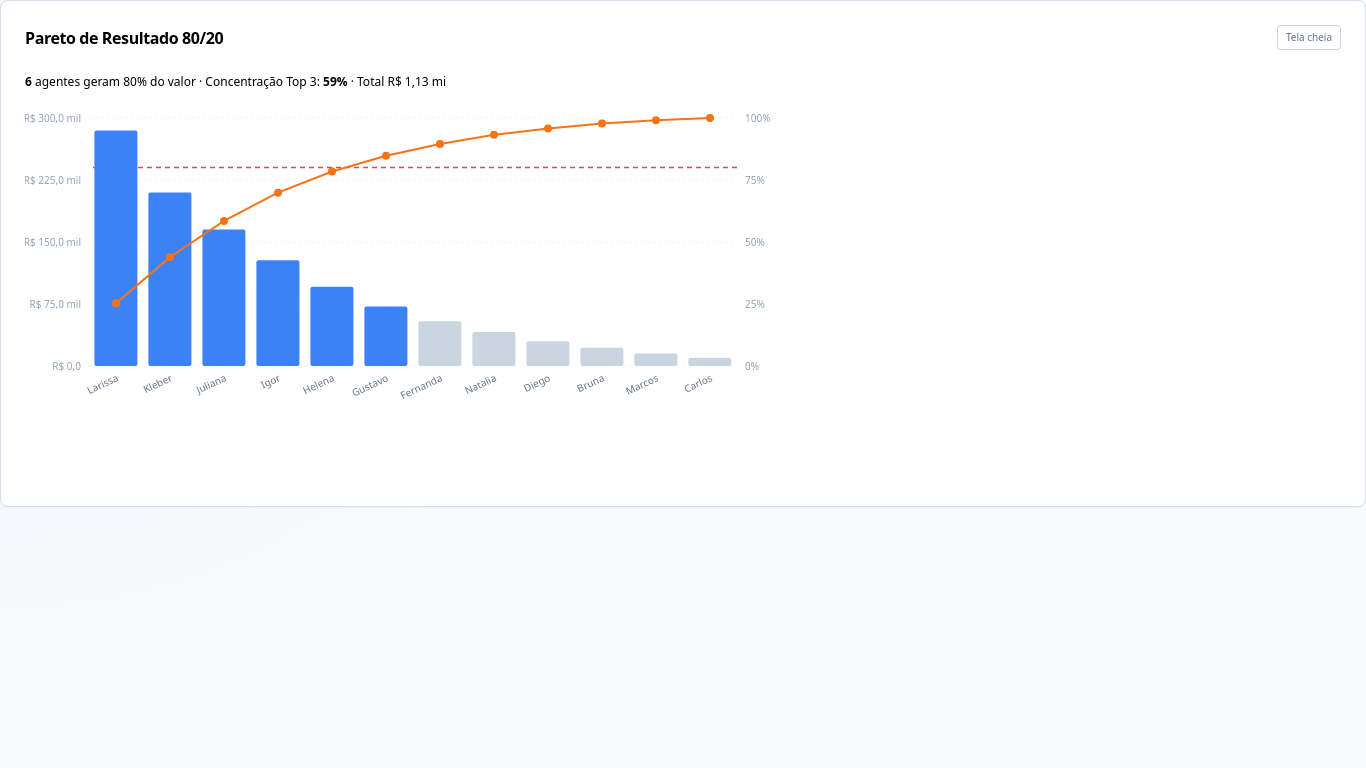
Test case: ParetoChart › opens fullscreen overlay on maximize click
This screenshot has width=1366, height=768.
Step 1. Click the button with test id "pareto-maximize" → (1309, 38), box [1277,25,1341,50]
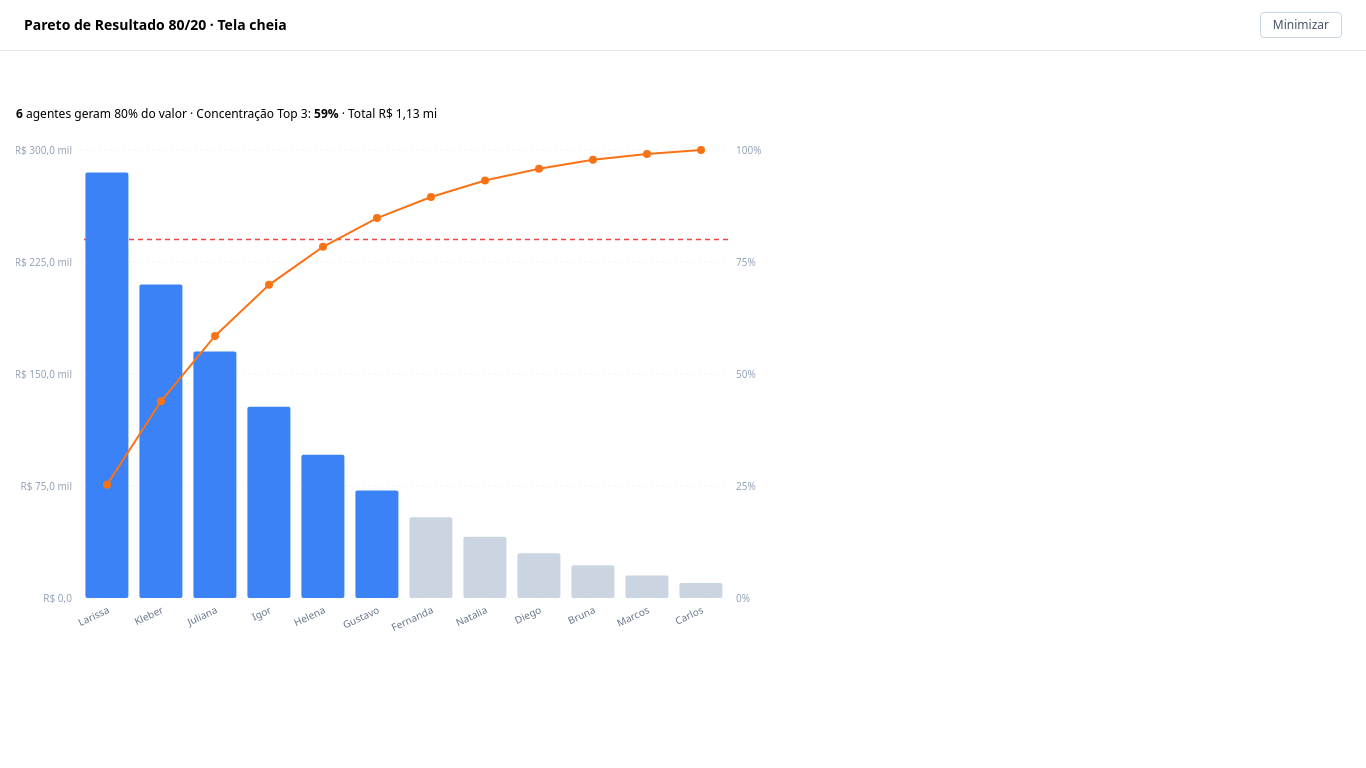
Check: the element with test id "pareto-overlay" is shown
Check: the button with test id "pareto-minimize" is shown, box [1260,12,1342,38]
